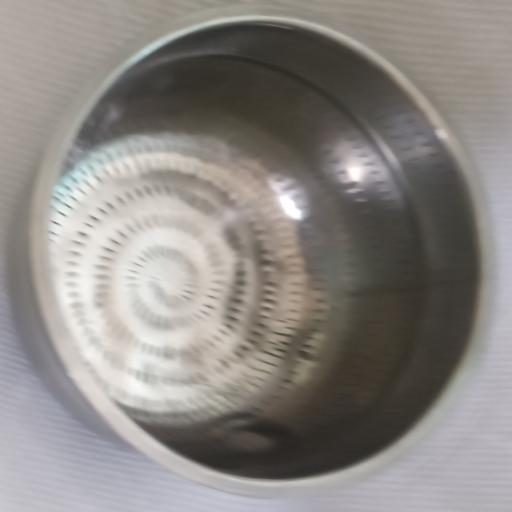vessel: (29, 9, 492, 497)
